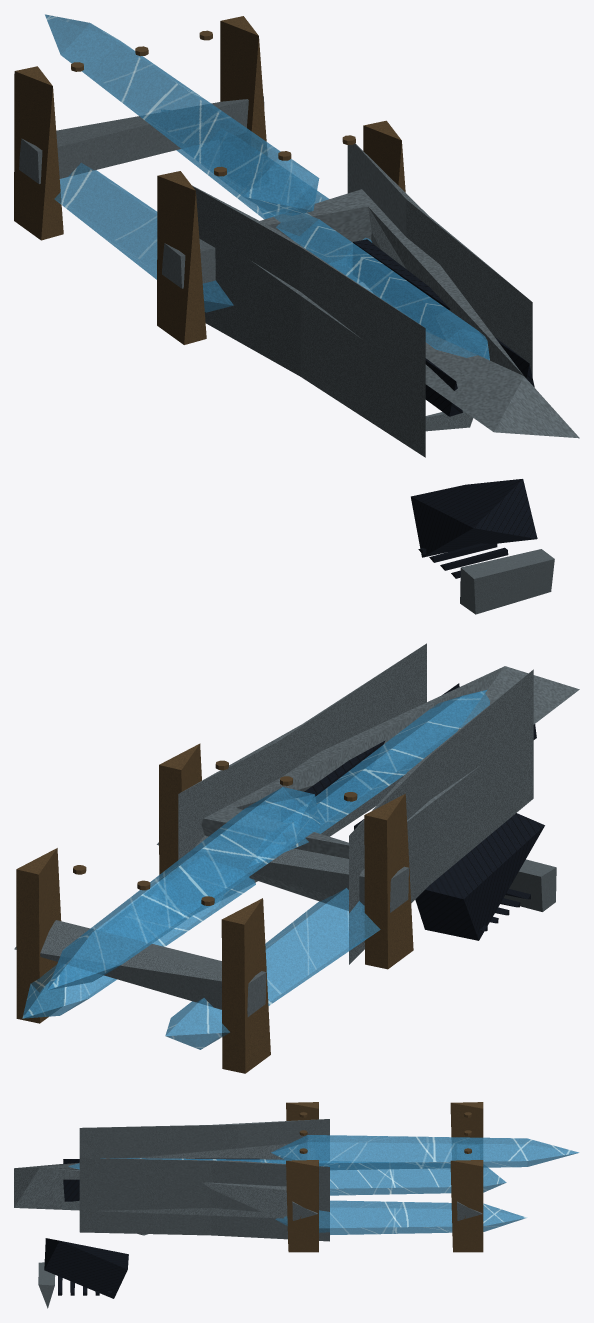
Rendered from rime-focus-damaged-lod2.glb.
3 views of the same model, one above another, from view 1: azimuth 30°, elevation 25°; view 2: azimuth 150°, elevation 25°; view 3: azimuth 270°, elevation 25° (orthographic). The views are drawn at different scales.
Parts seen in each view (by area): view 1: Swept receiver fin, Sculpted open silver receiver, Independent ice cartridge, Swept receiver fin.001, Cartridge clamp bridge.001, Rear dorsal ice conduit, Angled slate pistol grip, Independent ice cartridge.001, Locking cartridge side bracket.002, Locking cartridge side bracket, Silver flared grip heel, Slate receiver spine.001 (+4 smaller); view 2: Swept receiver fin, Independent ice cartridge, Sculpted open silver receiver, Swept receiver fin.001, Cartridge clamp bridge.001, Independent ice cartridge.001, Rear dorsal ice conduit, Angled slate pistol grip, Locking cartridge side bracket, Locking cartridge side bracket.002, Locking cartridge side bracket.003, Cartridge clamp bridge (+4 smaller); view 3: Swept receiver fin.001, Independent ice cartridge, Swept receiver fin, Sculpted open silver receiver, Independent ice cartridge.002, Independent ice cartridge.001, Angled slate pistol grip, Locking cartridge side bracket.003, Locking cartridge side bracket.001, Locking cartridge side bracket.002, Locking cartridge side bracket, Rear dorsal ice conduit (+4 smaller).
Part boxes in pixels (x1=…): Swept receiver fin: x1=192, y1=185, x2=425, y2=457; Sculpted open silver receiver: x1=203, y1=189, x2=579, y2=438; Independent ice cartridge: x1=45, y1=14, x2=319, y2=215; Swept receiver fin.001: x1=347, y1=143, x2=532, y2=376; Cartridge clamp bridge.001: x1=19, y1=96, x2=264, y2=183; Rear dorsal ice conduit: x1=245, y1=185, x2=489, y2=360; Angled slate pistol grip: x1=411, y1=479, x2=537, y2=557; Independent ice cartridge.001: x1=54, y1=163, x2=233, y2=312; Locking cartridge side bracket.002: x1=14, y1=66, x2=63, y2=240; Locking cartridge side bracket: x1=157, y1=171, x2=206, y2=344; Silver flared grip heel: x1=460, y1=549, x2=554, y2=614; Slate receiver spine.001: x1=353, y1=239, x2=534, y2=387; Swept receiver fin: x1=349, y1=669, x2=533, y2=964; Independent ice cartridge: x1=47, y1=787, x2=320, y2=990; Sculpted open silver receiver: x1=201, y1=666, x2=579, y2=915; Swept receiver fin.001: x1=178, y1=643, x2=426, y2=911; Cartridge clamp bridge.001: x1=14, y1=920, x2=266, y2=1016; Independent ice cartridge.001: x1=165, y1=888, x2=380, y2=1049; Rear dorsal ice conduit: x1=247, y1=689, x2=489, y2=867; Angled slate pistol grip: x1=415, y1=813, x2=544, y2=940; Locking cartridge side bracket: x1=364, y1=793, x2=413, y2=969; Locking cartridge side bracket.002: x1=221, y1=898, x2=270, y2=1073; Locking cartridge side bracket.003: x1=16, y1=848, x2=64, y2=1023; Cartridge clamp bridge: x1=157, y1=835, x2=408, y2=912; Swept receiver fin.001: x1=79, y1=1158, x2=329, y2=1241; Independent ice cartridge: x1=271, y1=1135, x2=579, y2=1170; Swept receiver fin: x1=79, y1=1119, x2=329, y2=1160; Sculpted open silver receiver: x1=14, y1=1143, x2=300, y2=1218; Independent ice cartridge.002: x1=275, y1=1200, x2=526, y2=1234; Independent ice cartridge.001: x1=330, y1=1167, x2=506, y2=1195; Angled slate pistol grip: x1=44, y1=1238, x2=128, y2=1298; Locking cartridge side bracket.003: x1=450, y1=1160, x2=483, y2=1252; Locking cartridge side bracket.001: x1=286, y1=1160, x2=318, y2=1252; Locking cartridge side bracket.002: x1=450, y1=1102, x2=483, y2=1159; Locking cartridge side bracket: x1=286, y1=1102, x2=318, y2=1120; Rear dorsal ice conduit: x1=68, y1=1158, x2=347, y2=1169.
Bounding box in the file's own units: 0.235 × 0.2761 × 0.86.
Materials: 4 (4 with a texture image).
